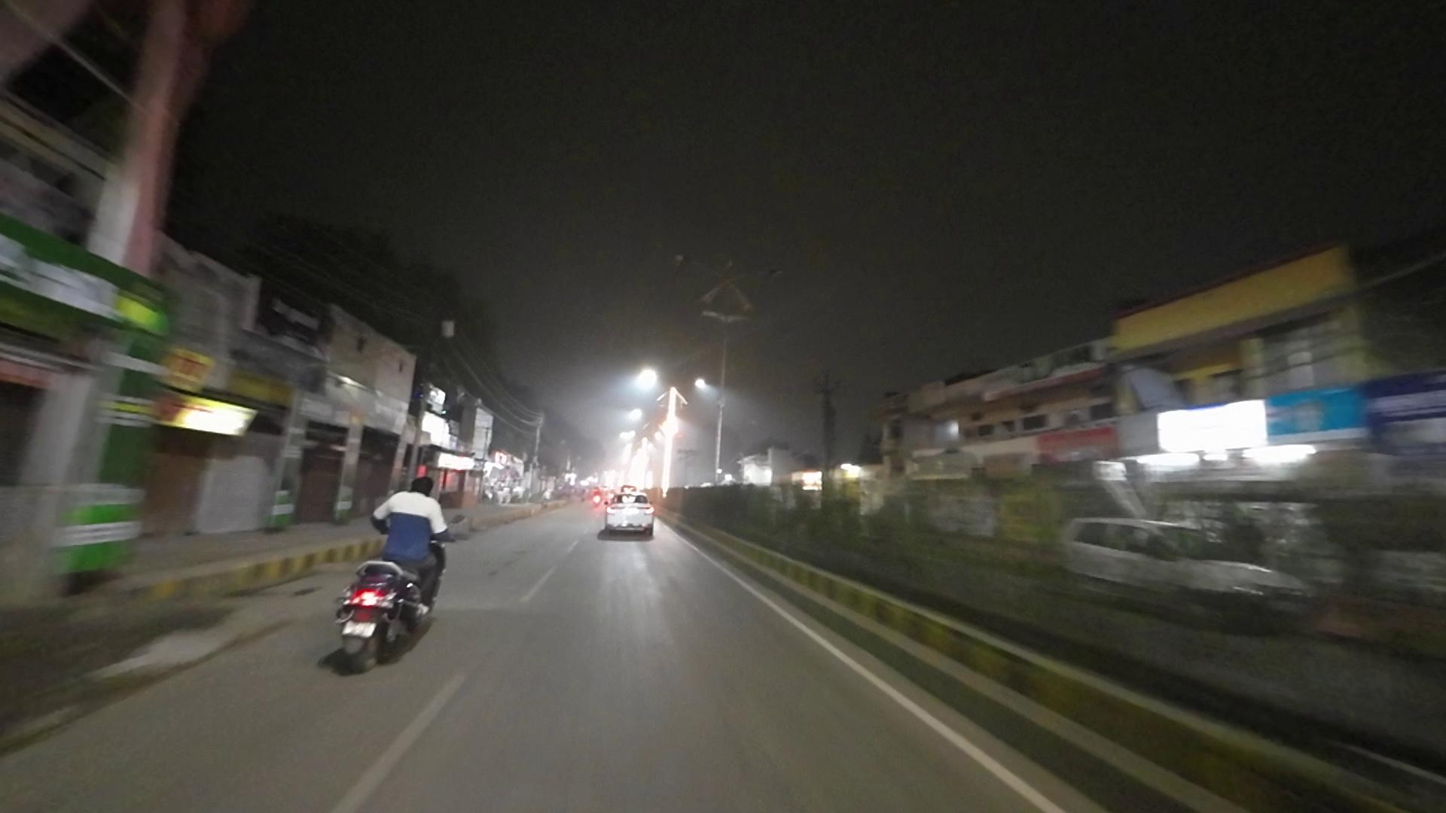streetlight: (672, 251, 723, 280), (735, 265, 787, 283)
